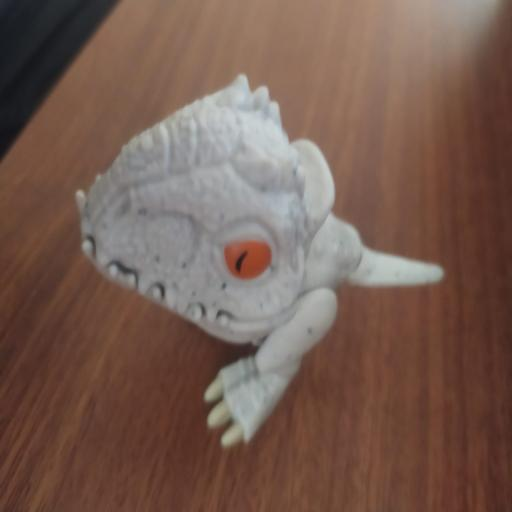Dinosaurio: (69, 68, 457, 457)
